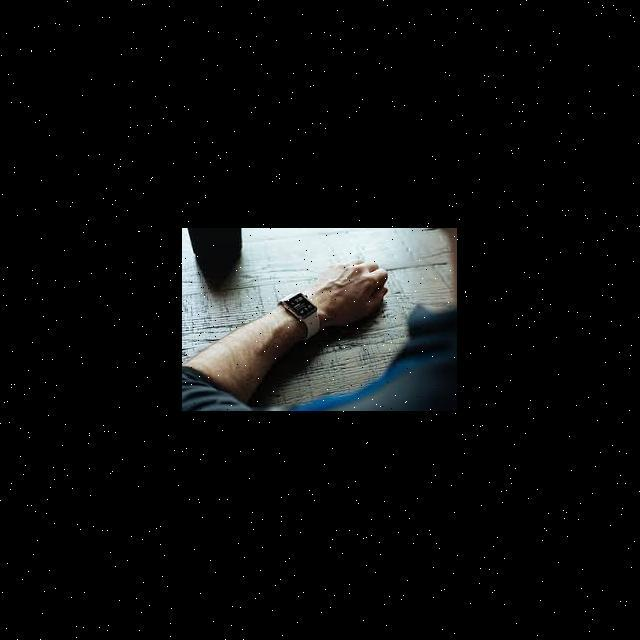watch: (267, 268, 328, 338)
